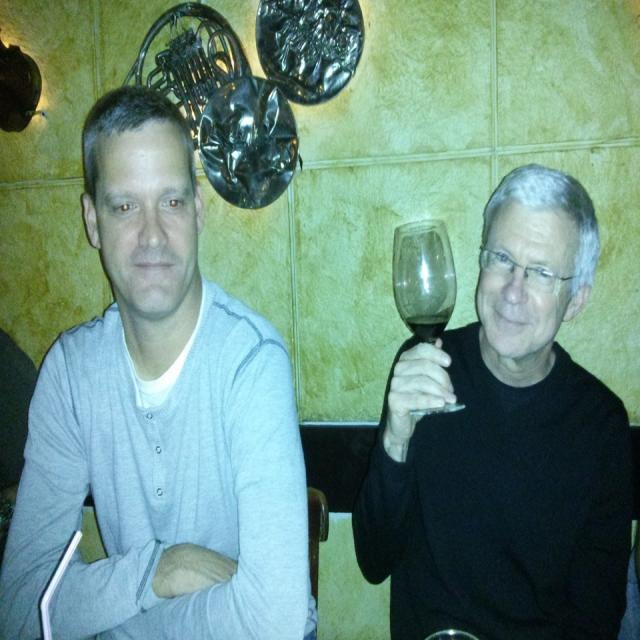Glasses: (475, 230, 595, 305)
